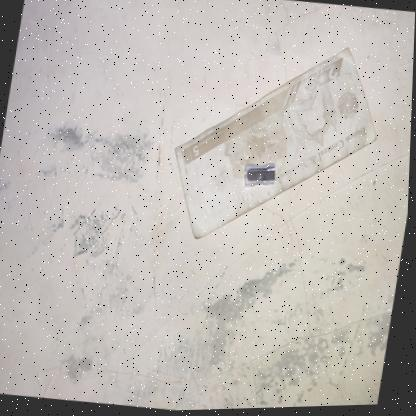five-back-vef: (161, 28, 390, 261)
